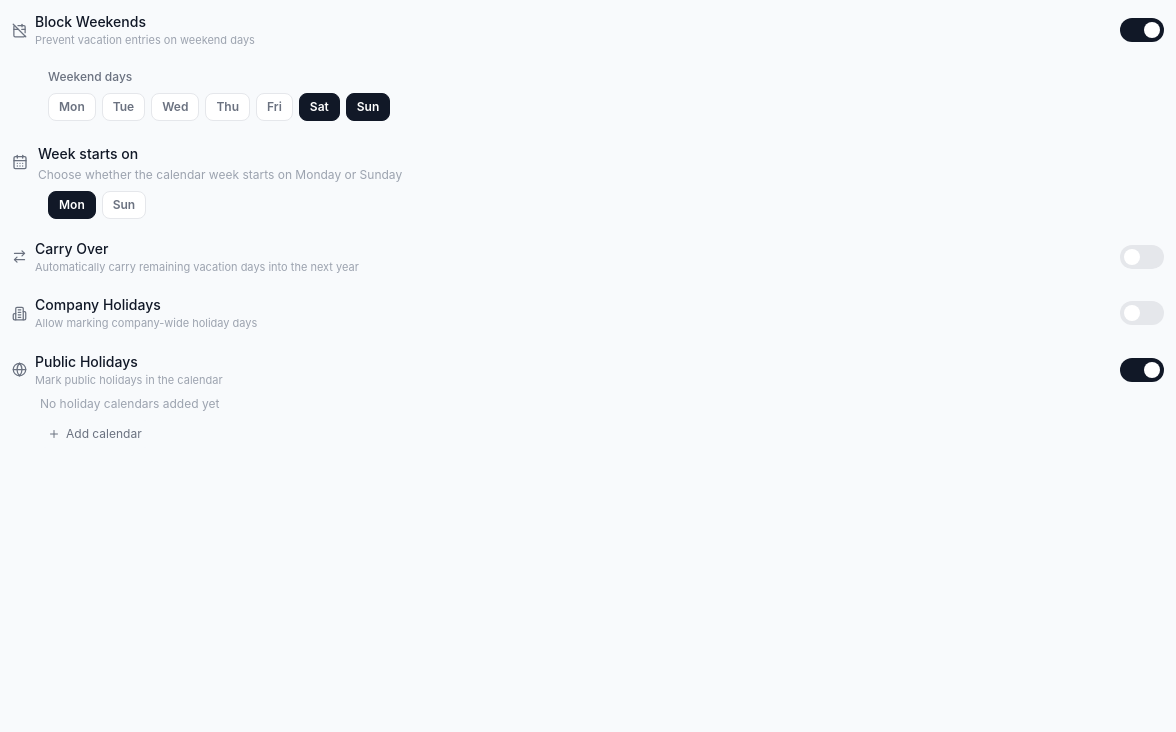
Scenario: VacaySettings › FE-COMP-VACAYSETTINGS-015: AddCalendarForm cancel button hides form
Click the button "Add calendar" at x=95, y=434, box [40,420,150,448]
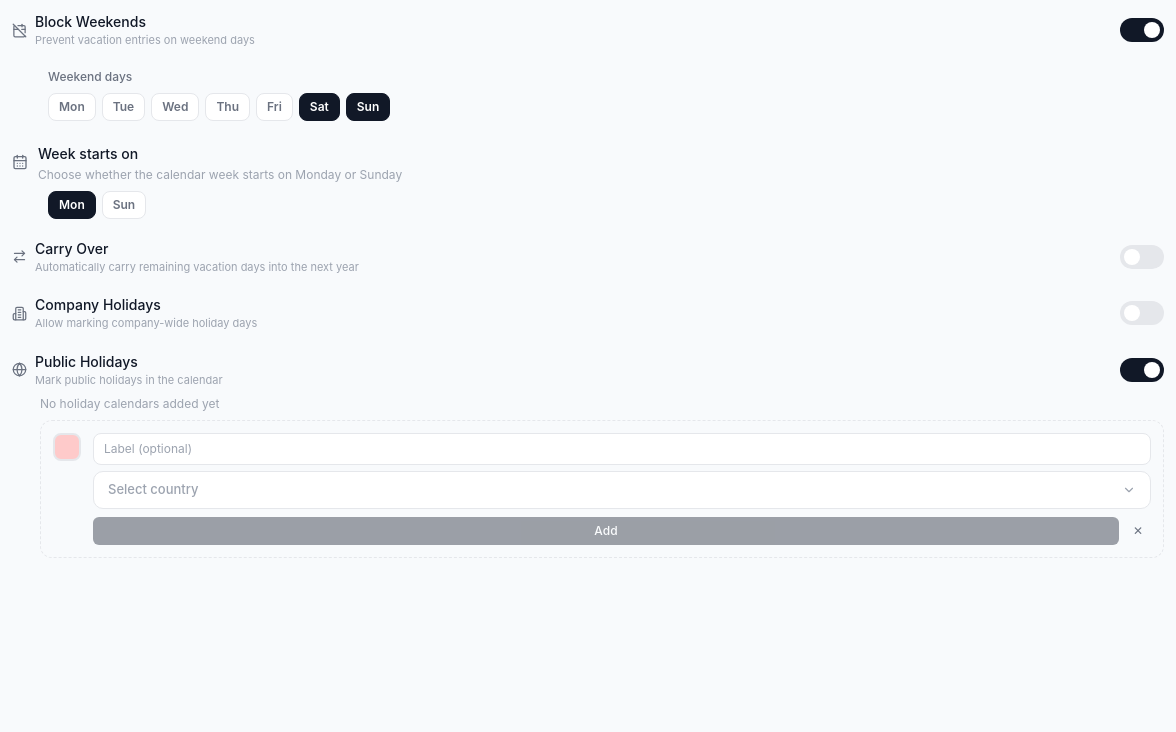
Result: the field is shown at [93,433,1151,465]
Result: the button "✕" is shown
Click the button "✕" at x=1138, y=530, box [1125,516,1151,544]
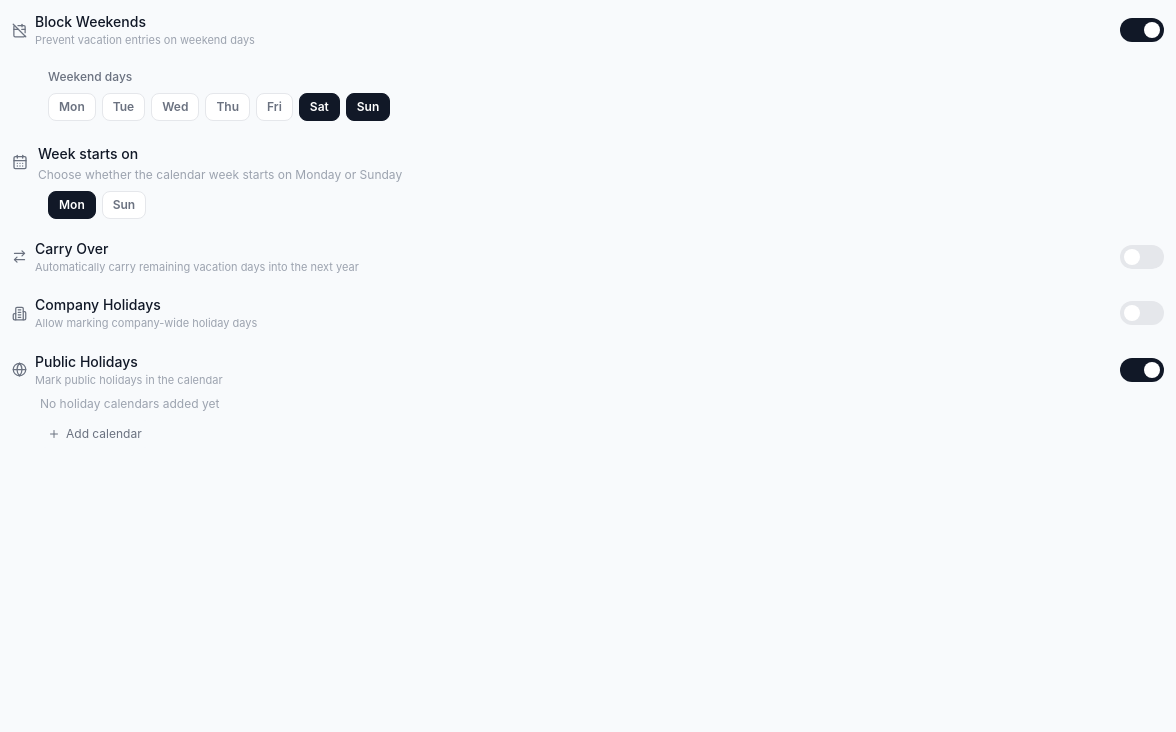
Result: the field is gone
